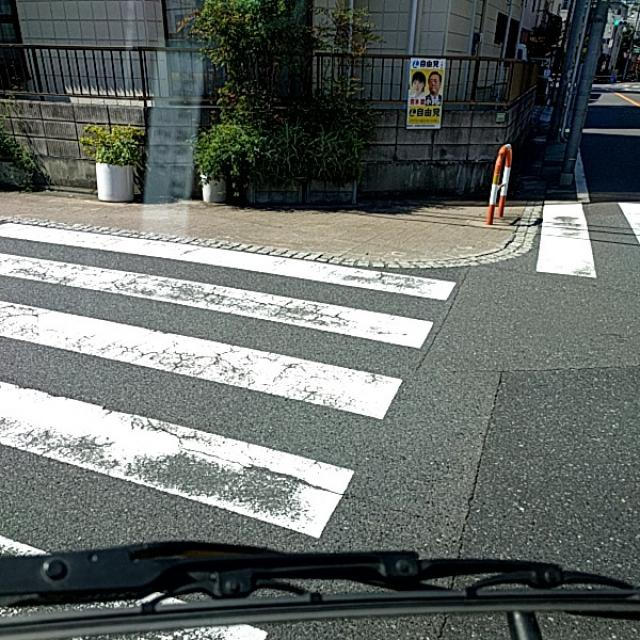pothole: (143, 326, 260, 390)
